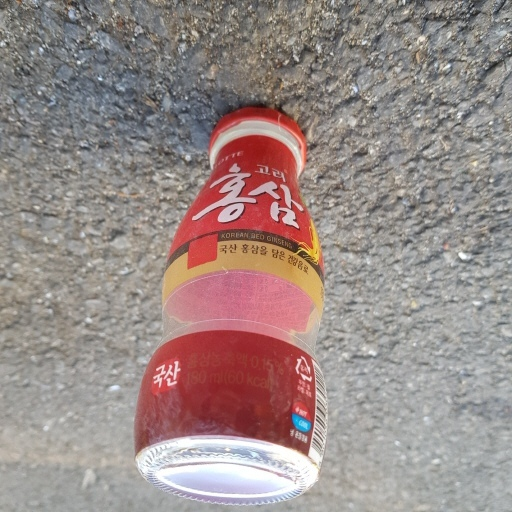Glass_4: (128, 105, 331, 502)
